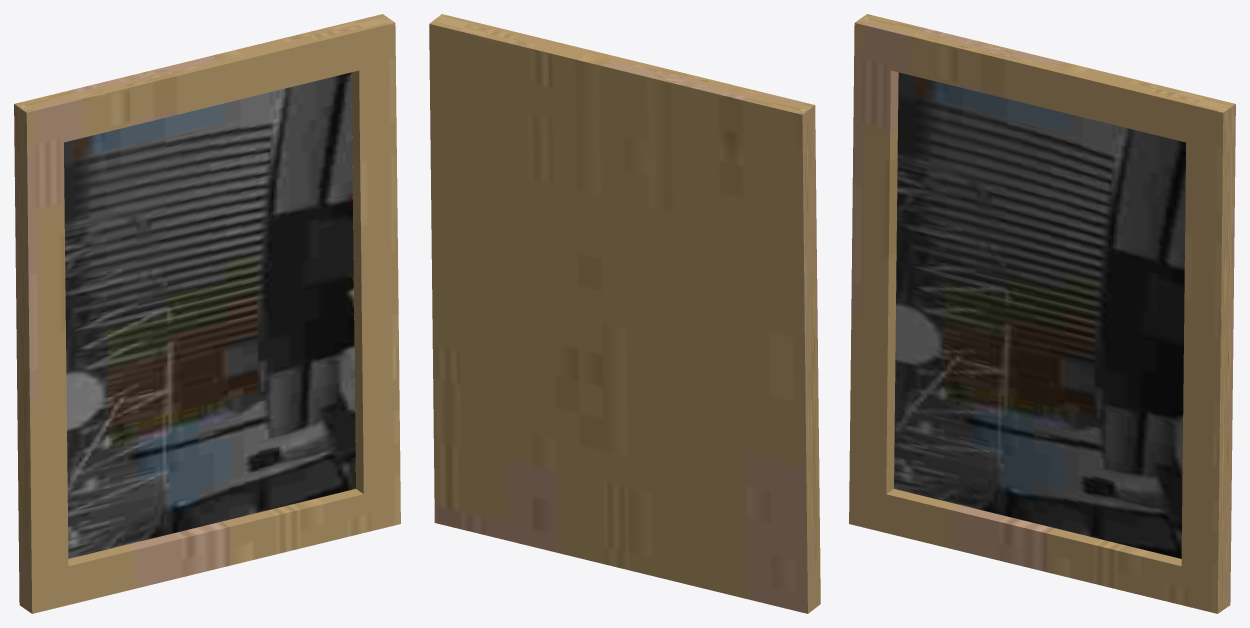
The model's file is cadre.glb.
3 views of the same model, side by side, from view 1: azimuth 30°, elevation 25°; view 2: azimuth 150°, elevation 25°; view 3: azimuth 330°, elevation 25° (orthographic).
Visible parts, largest first — view 1: Cadre; view 2: Cadre; view 3: Cadre.
Part boxes in pixels (<box>): Cadre: <box>14,14,400,613</box>; Cadre: <box>429,14,820,613</box>; Cadre: <box>849,14,1235,613</box>.
Bounding box in the file's own units: 8.59 × 11.07 × 0.7331.
2 materials, 2 textured.
